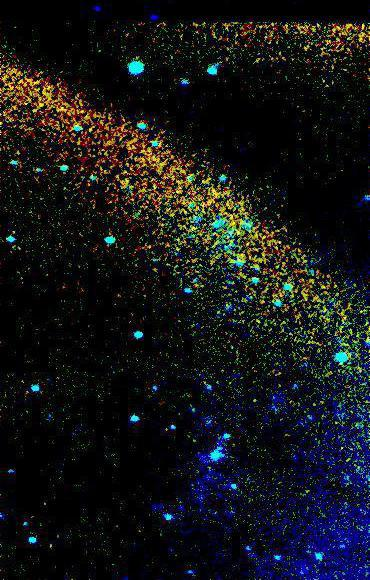star: (206, 429, 236, 459)
